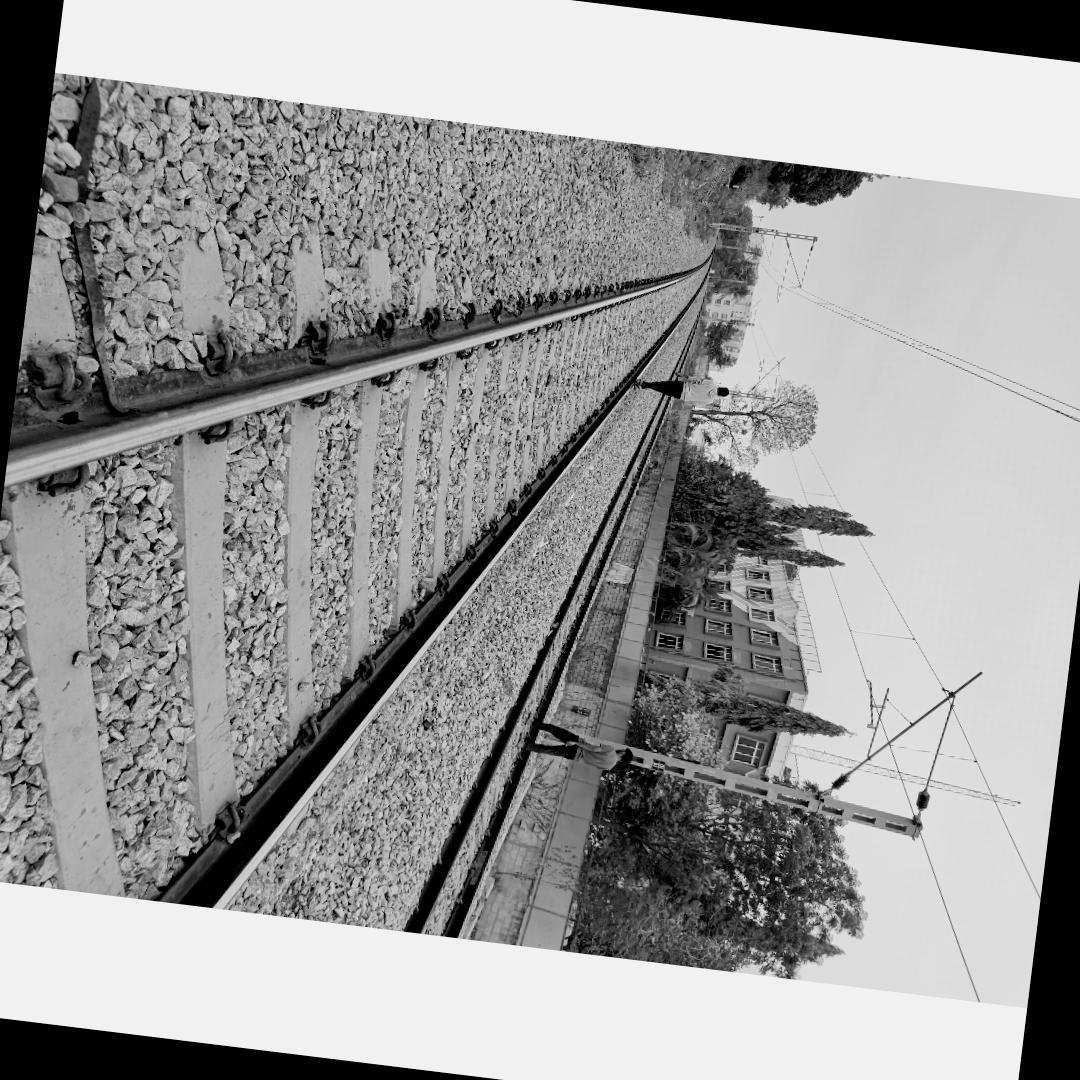standing: (514, 716, 652, 784), (514, 717, 636, 775), (630, 366, 731, 414)
track: (0, 223, 735, 911), (397, 271, 717, 939)
